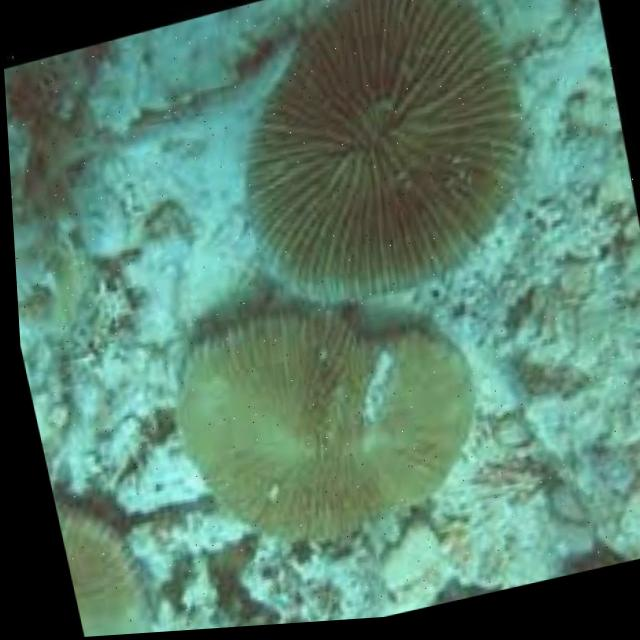Healthy Coral: (173, 0, 584, 359), (136, 254, 524, 611), (50, 491, 179, 639)
